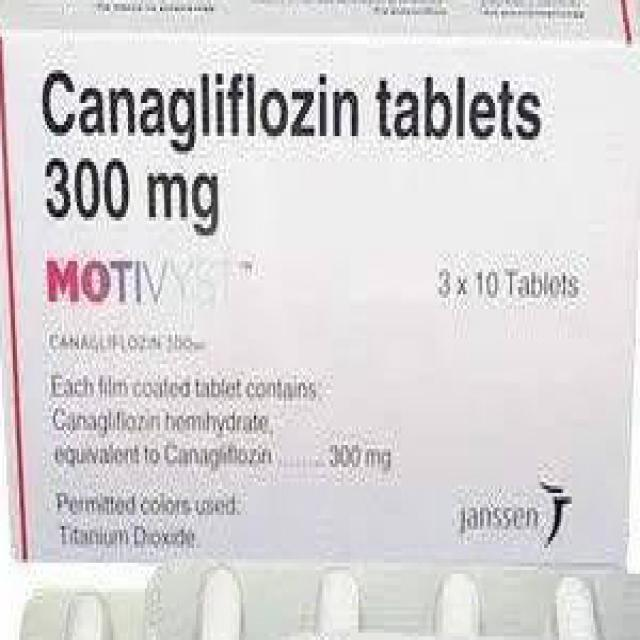drug-name: (48, 242, 240, 312)
